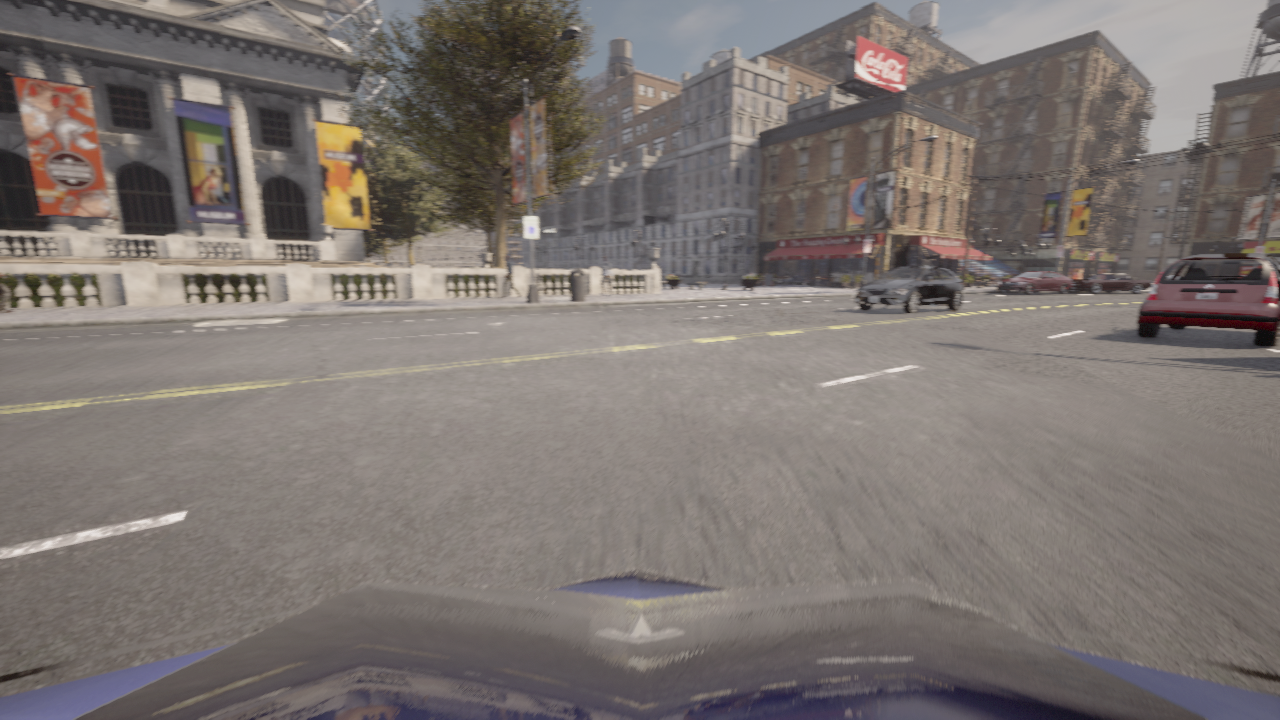cyclist: (0, 569, 1279, 719), (1137, 253, 1279, 346), (853, 266, 962, 313), (997, 271, 1071, 294), (1068, 274, 1151, 293)
pedestrian: (499, 256, 520, 298), (600, 256, 613, 296)
